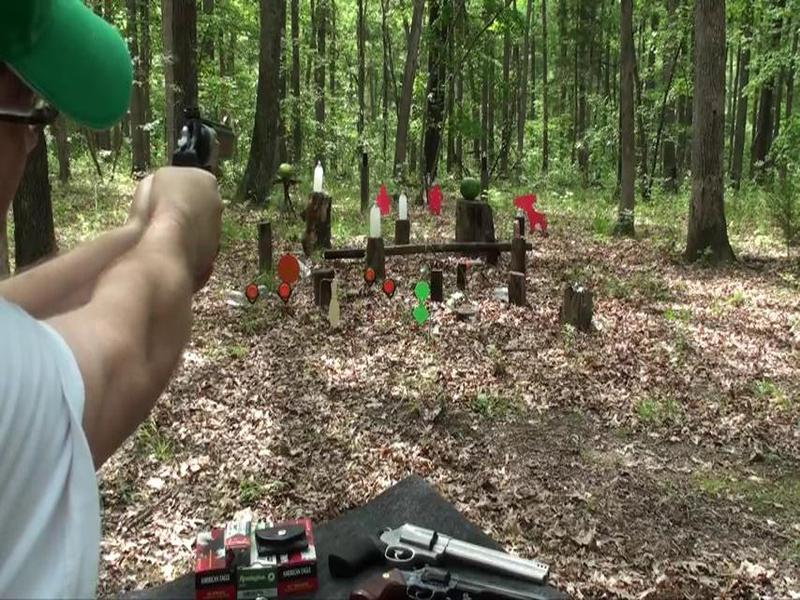Revolver: (168, 79, 252, 223)
